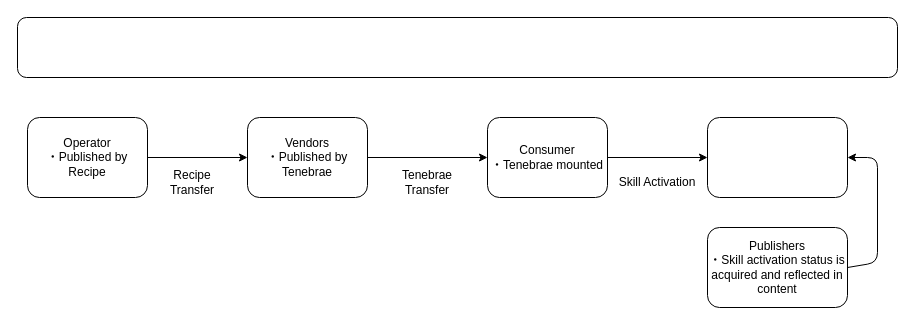
This 915x325 diagram has some shape labels left out. Here are the shapes that lost their labels. From the top down, the centre of each, then its label:
At point (457, 47): "Tenebrae flow".
At point (777, 157): "contents".
